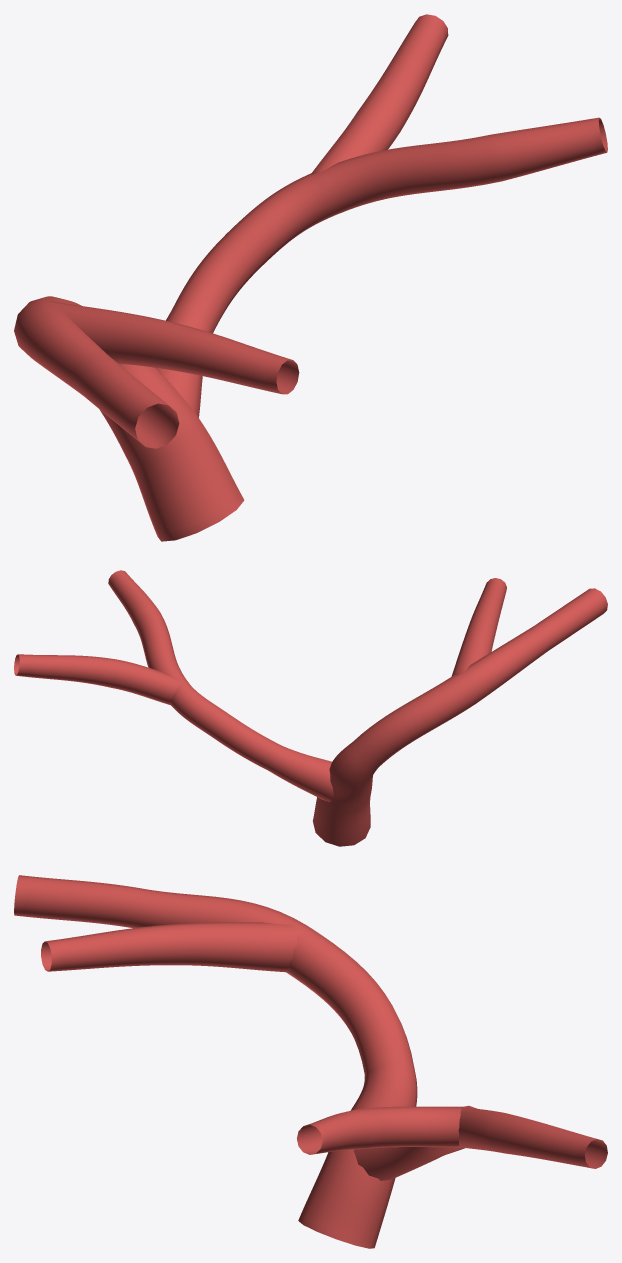
The picture shows the model from 3 angles, top to bottom: view 1: azimuth 30°, elevation 25°; view 2: azimuth 150°, elevation 25°; view 3: azimuth 270°, elevation 25°; orthographic projection. The views are drawn at different scales.
Visible parts, largest first — view 1: 左肺下叶上段动脉; view 2: 左肺下叶上段动脉; view 3: 左肺下叶上段动脉.
Part boxes in pixels (x1,y1,x2,y2): 左肺下叶上段动脉: (14,14,607,541); 左肺下叶上段动脉: (14,570,607,846); 左肺下叶上段动脉: (14,875,607,1248).
Bounding box in the file's own units: 0.0918 × 0.0453 × 0.0861.
